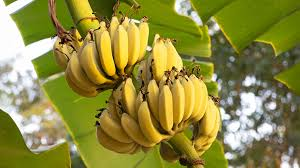banana: (53, 15, 226, 157)
